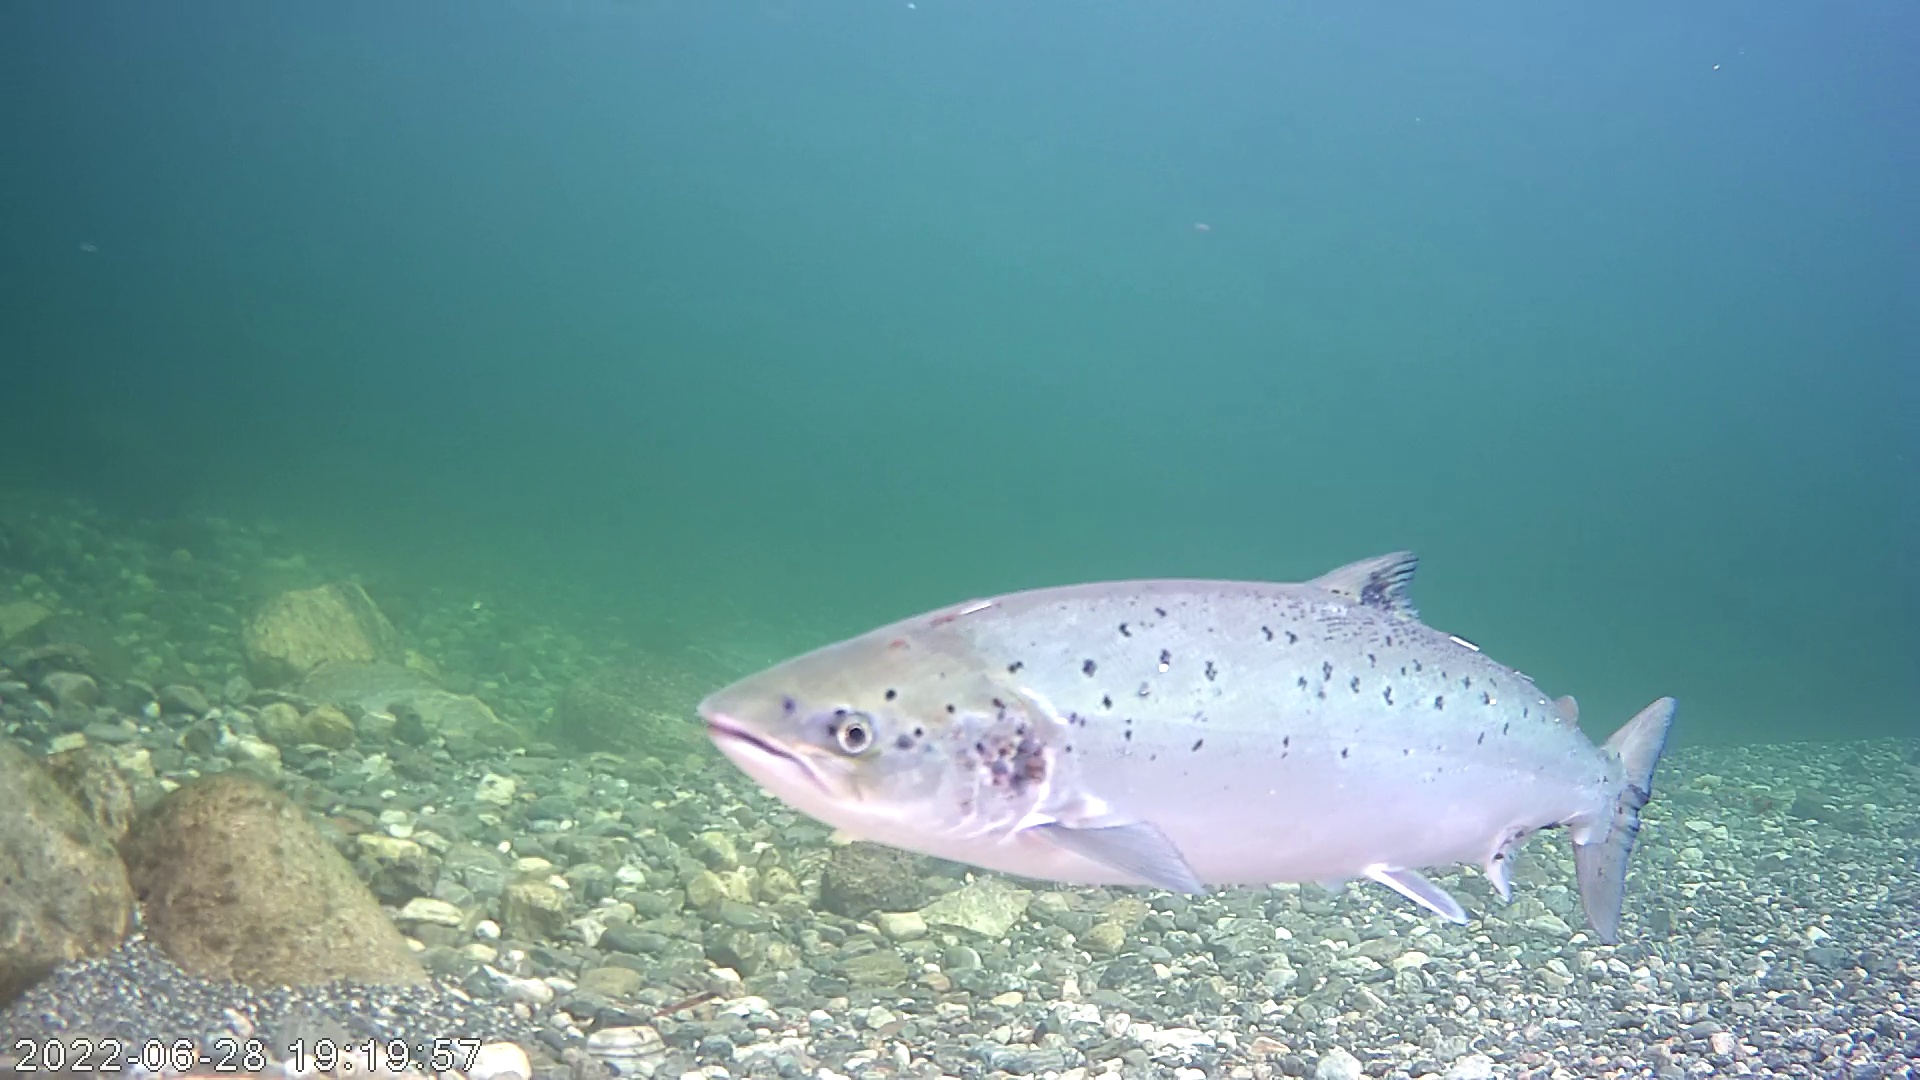salmon: (674, 468, 1688, 899)
